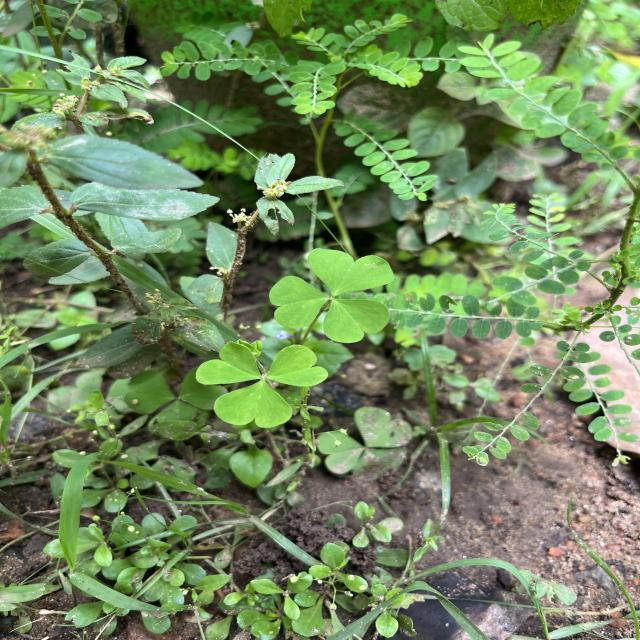Oxalis corniculata: (268, 246, 395, 344), (194, 341, 330, 428)
